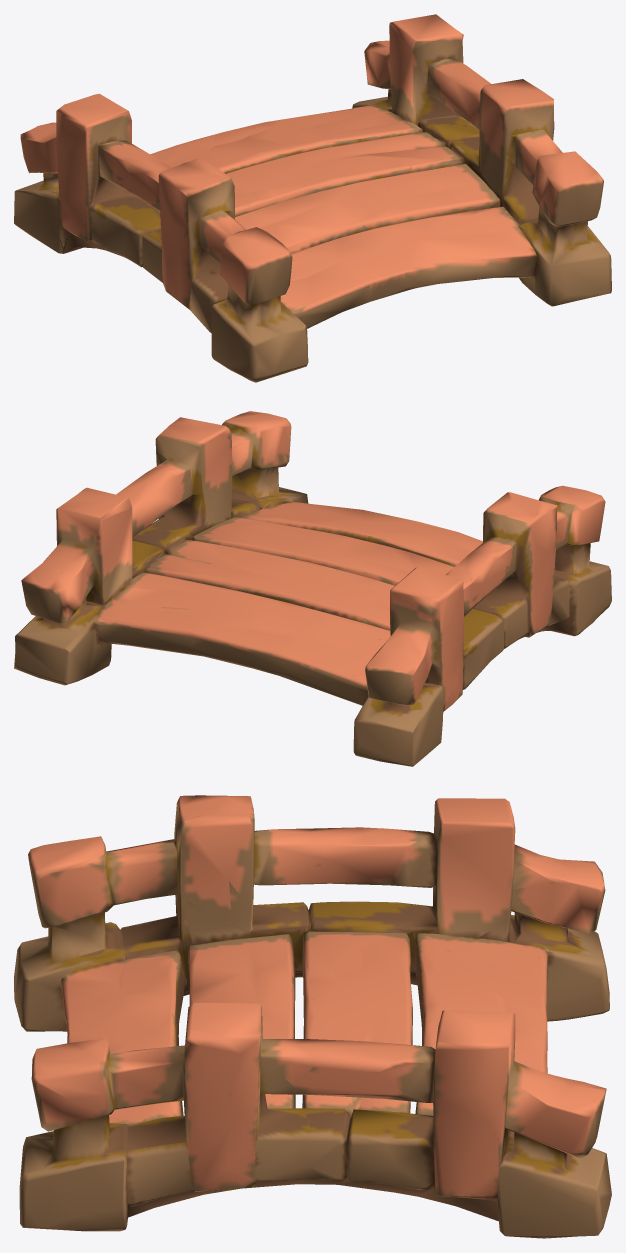
The model's file is bridge.glb.
The picture shows the model from 3 angles, top to bottom: view 1: azimuth 30°, elevation 25°; view 2: azimuth 150°, elevation 25°; view 3: azimuth 270°, elevation 25°; orthographic projection. The views are drawn at different scales.
Visible parts, largest first — view 1: tripo_node_6dce3ab8-06b9-4e05-bad7-26fcb04aaa6a; view 2: tripo_node_6dce3ab8-06b9-4e05-bad7-26fcb04aaa6a; view 3: tripo_node_6dce3ab8-06b9-4e05-bad7-26fcb04aaa6a.
Boxes of the visible parts, x1,y1,x2,y2 form: tripo_node_6dce3ab8-06b9-4e05-bad7-26fcb04aaa6a: (14, 14, 611, 382); tripo_node_6dce3ab8-06b9-4e05-bad7-26fcb04aaa6a: (14, 411, 611, 766); tripo_node_6dce3ab8-06b9-4e05-bad7-26fcb04aaa6a: (14, 795, 611, 1238).
Bounding box in the file's own units: 0.9997 × 0.3699 × 0.9728.
Materials: 1 (1 with a texture image).
